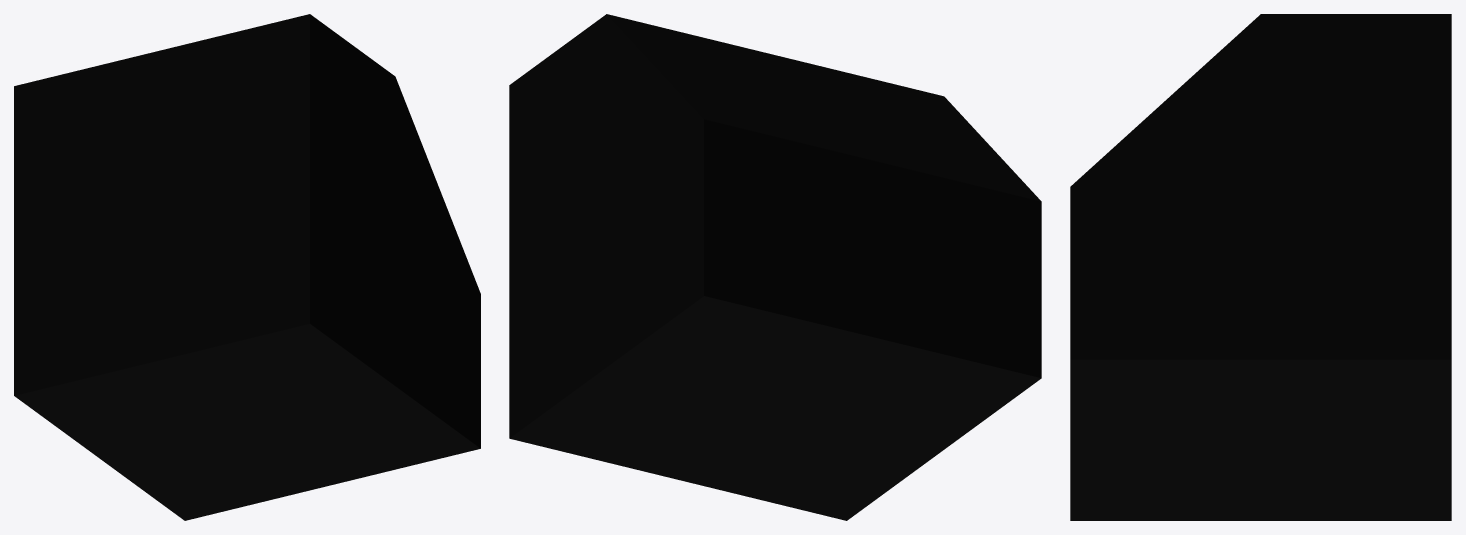
File: r3c6_border_black.gltf
3 views of the same model, side by side, from view 1: azimuth 30°, elevation 25°; view 2: azimuth 150°, elevation 25°; view 3: azimuth 270°, elevation 25° (orthographic). The views are drawn at different scales.
Parts seen in each view (by area): view 1: r3c6_border_black; view 2: r3c6_border_black; view 3: r3c6_border_black.
Boxes of the visible parts, x1,y1,x2,y2 form: r3c6_border_black: [14, 14, 480, 520]; r3c6_border_black: [509, 14, 1041, 520]; r3c6_border_black: [1070, 14, 1451, 520].
Bounding box in the file's own units: 2.1 × 2.1 × 2.1.
1 material, 1 textured.
